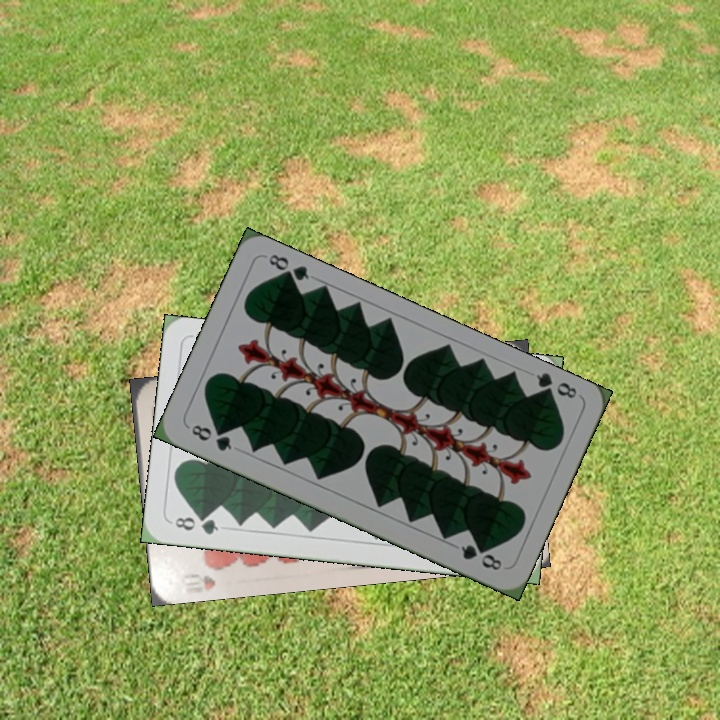G8: (532, 368, 580, 403), (187, 420, 235, 454), (171, 512, 222, 538)
H10: (176, 569, 218, 594)
